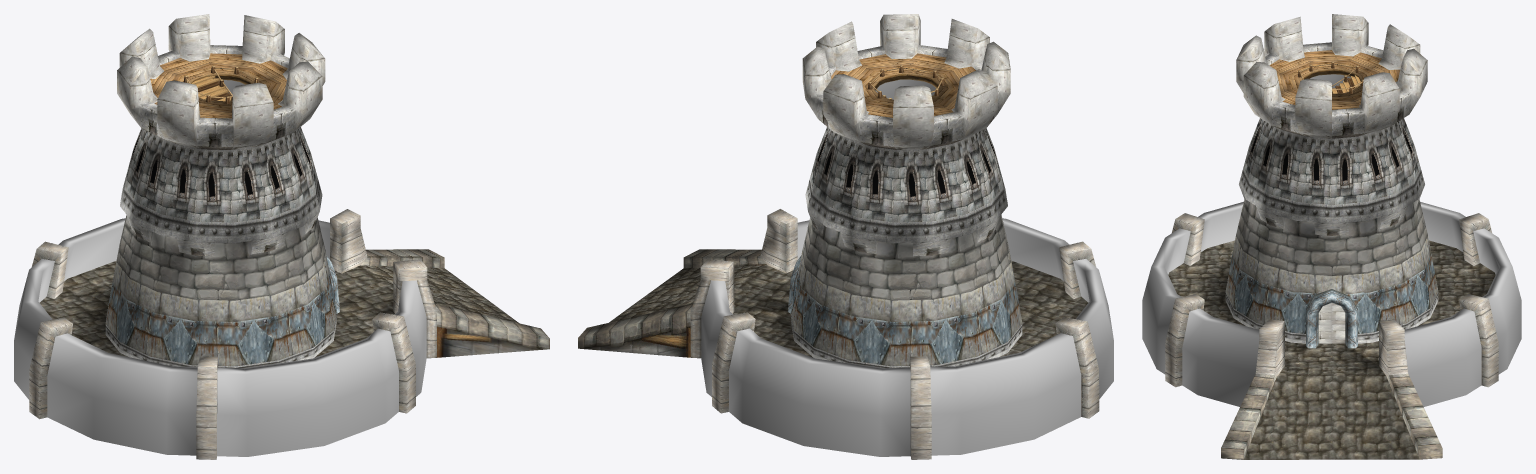
The model's file is guardtower_set0.obj.
3 renders of one model, left to right at view 1: azimuth 30°, elevation 25°; view 2: azimuth 150°, elevation 25°; view 3: azimuth 270°, elevation 25°, orthographic. The views are drawn at different scales.
Visible parts, largest first — view 1: towerexterior8, towerexterior11, towerexterior9, towerexterior14, towerexterior15, towerexterior10, towerexterior6, towerexterior12, towerexterior7, towerexterior1; view 2: towerexterior8, towerexterior11, towerexterior9, towerexterior14, towerexterior15, towerexterior10, towerexterior6, towerexterior12, towerexterior7, towerexterior1; view 3: towerexterior8, towerexterior6, towerexterior11, towerexterior9, towerexterior15, towerexterior14, towerexterior10, towerexterior12, towerexterior7, towerexterior13, towerinterior9, towerexterior1.
Boxes of the visible parts, box(x1,y1,x2,y2) form: towerexterior8: box(14, 218, 426, 456); towerexterior11: box(105, 127, 336, 368); towerexterior9: box(29, 45, 436, 459); towerexterior14: box(105, 250, 336, 366); towerexterior15: box(117, 14, 325, 149); towerexterior10: box(116, 215, 325, 300); towerexterior6: box(39, 260, 518, 357); towerexterior12: box(361, 249, 549, 357); towerexterior7: box(150, 53, 287, 118); towerexterior1: box(183, 67, 259, 104); towerexterior8: box(701, 218, 1113, 456); towerexterior11: box(791, 127, 1022, 368); towerexterior9: box(690, 45, 1099, 459); towerexterior14: box(791, 248, 1022, 366); towerexterior15: box(802, 14, 1010, 149); towerexterior10: box(802, 215, 1010, 300); towerexterior6: box(609, 260, 1088, 357); towerexterior12: box(578, 249, 766, 357); towerexterior7: box(831, 53, 975, 117); towerexterior1: box(867, 66, 944, 98); towerexterior8: box(1142, 201, 1521, 406); towerexterior6: box(1168, 240, 1495, 459); towerexterior11: box(1225, 118, 1438, 343); towerexterior9: box(1165, 42, 1498, 387); towerexterior15: box(1236, 14, 1427, 138); towerexterior14: box(1225, 236, 1438, 333); towerexterior10: box(1236, 199, 1427, 276); towerexterior12: box(1221, 373, 1442, 459); towerexterior7: box(1269, 50, 1400, 109); towerexterior13: box(1306, 289, 1357, 348); towerinterior9: box(1318, 303, 1345, 343); towerexterior1: box(1298, 62, 1363, 93).
Size of the model in its own units: 69.99 by 46.43 by 55.
